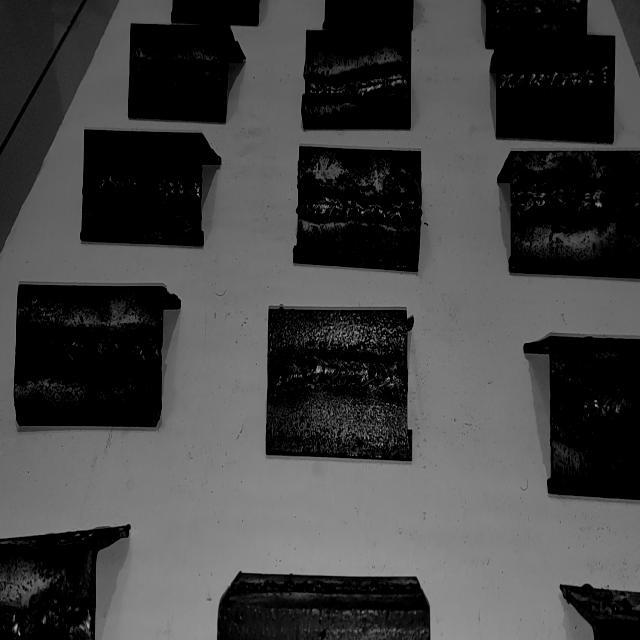Defect: (514, 175, 592, 228), (0, 597, 91, 640), (131, 54, 227, 88), (86, 179, 202, 204), (554, 381, 598, 438), (304, 71, 379, 102), (596, 176, 636, 228), (396, 186, 418, 234)
Welding Line: (269, 356, 406, 396), (20, 331, 161, 368), (512, 184, 640, 219), (298, 192, 420, 227), (552, 390, 640, 430), (306, 67, 408, 100), (84, 178, 200, 206), (498, 66, 614, 93), (131, 60, 229, 86), (490, 0, 585, 18)
Workpiece: (265, 303, 411, 465), (13, 282, 166, 428), (508, 151, 640, 280), (295, 145, 420, 276), (547, 333, 640, 503), (80, 130, 204, 248), (495, 32, 616, 146), (125, 20, 234, 120), (304, 28, 412, 128), (0, 541, 96, 640)
